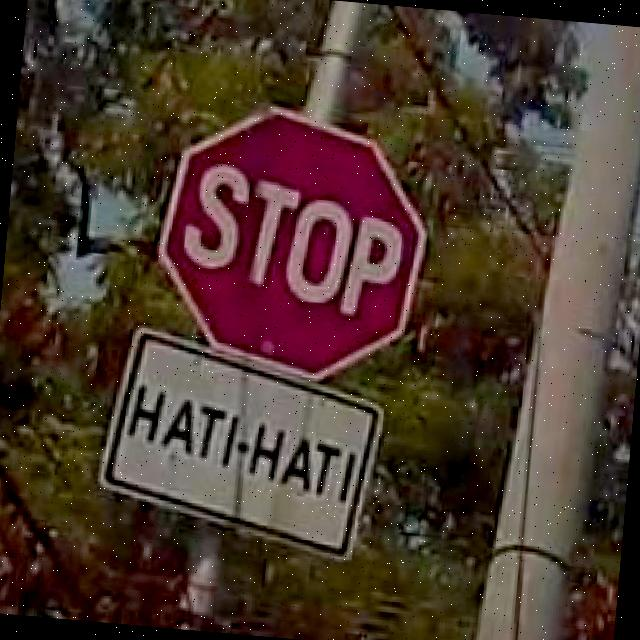Stop: (155, 106, 431, 381)
